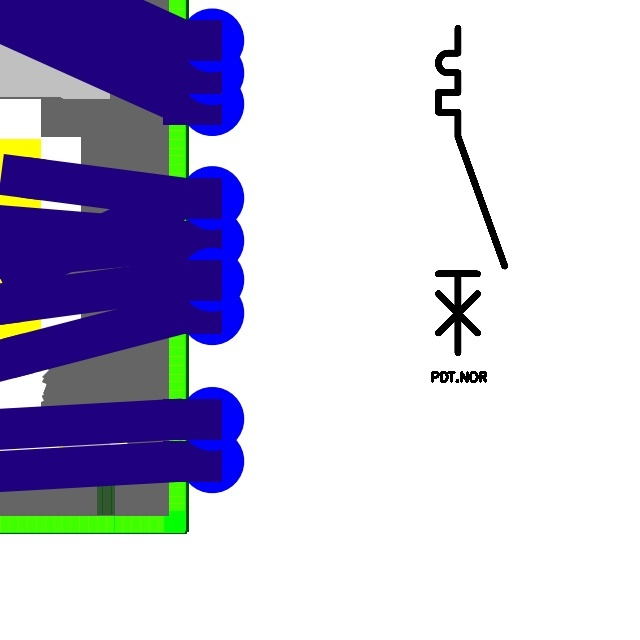interruptor_termomagnetico: (430, 20, 513, 360)
